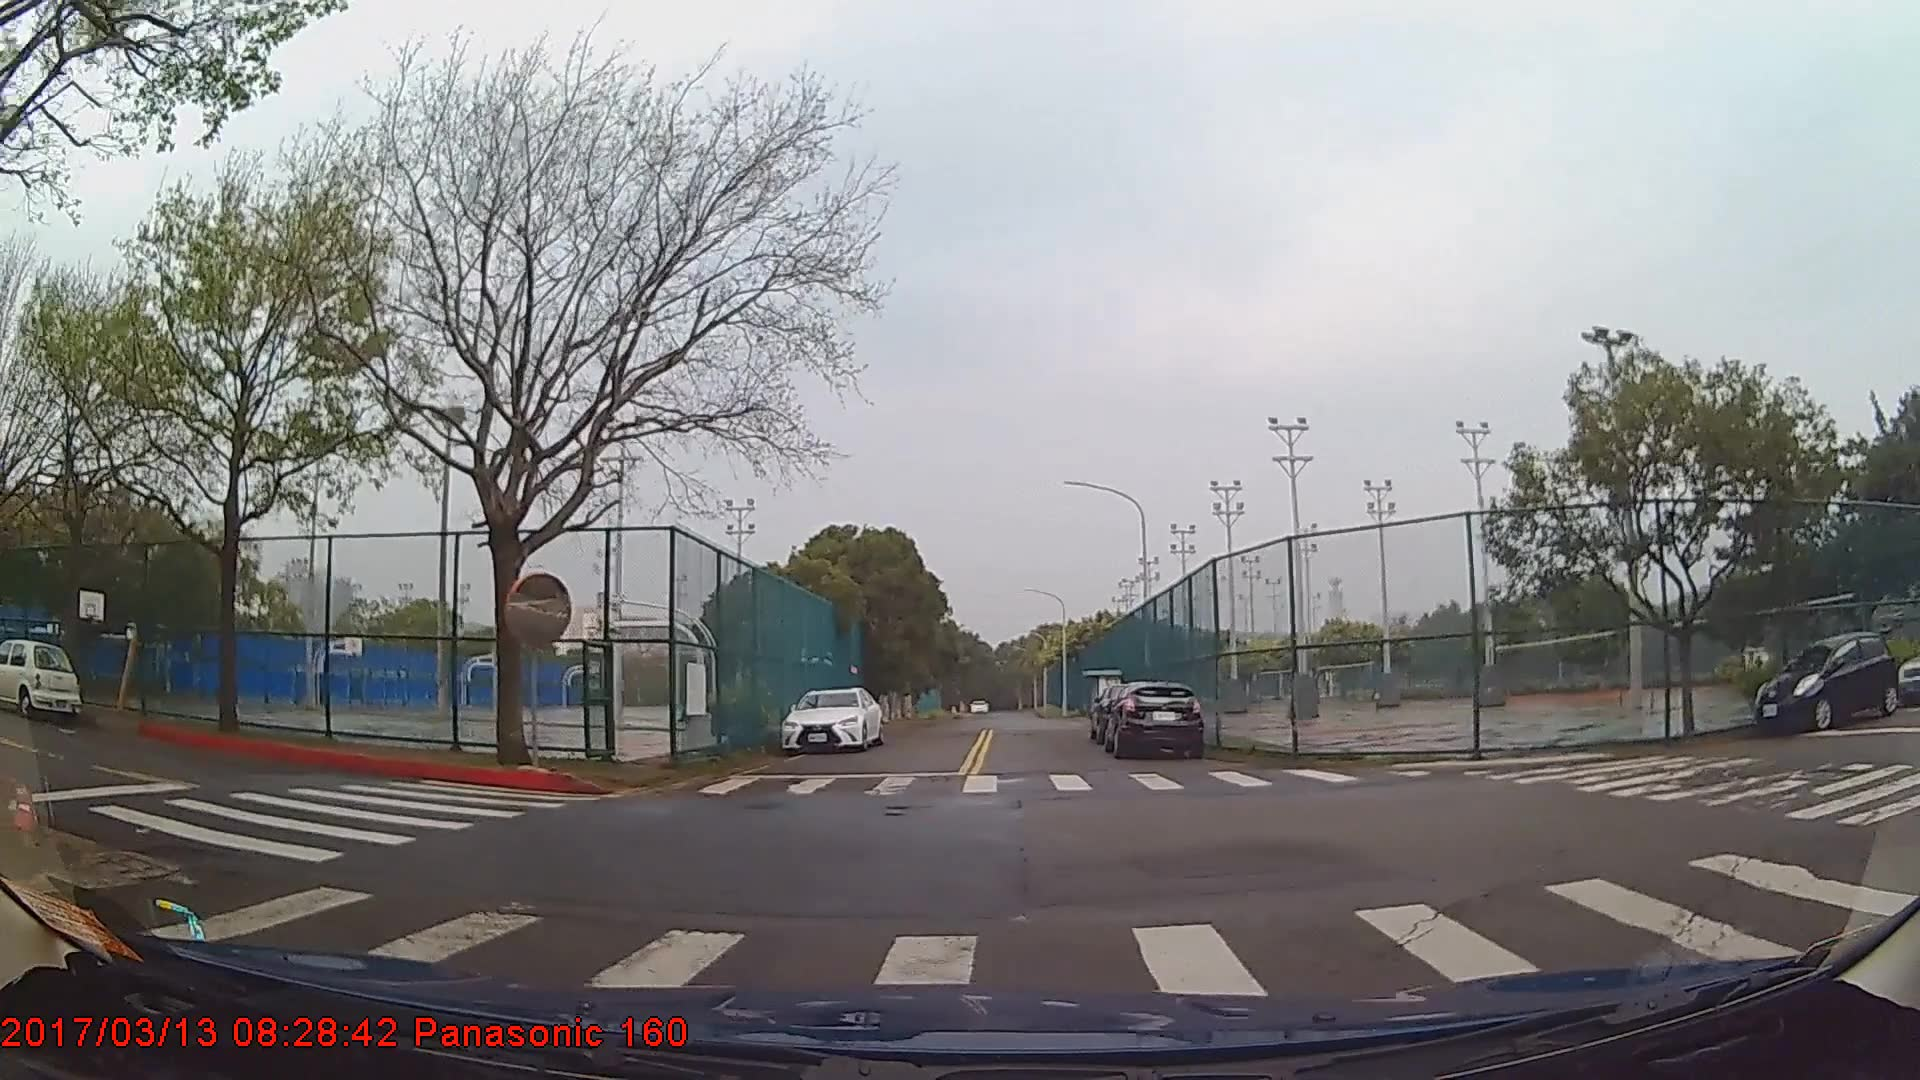vehicle: (1753, 628, 1899, 732), (1104, 680, 1204, 760), (0, 636, 84, 720), (785, 684, 885, 754)
